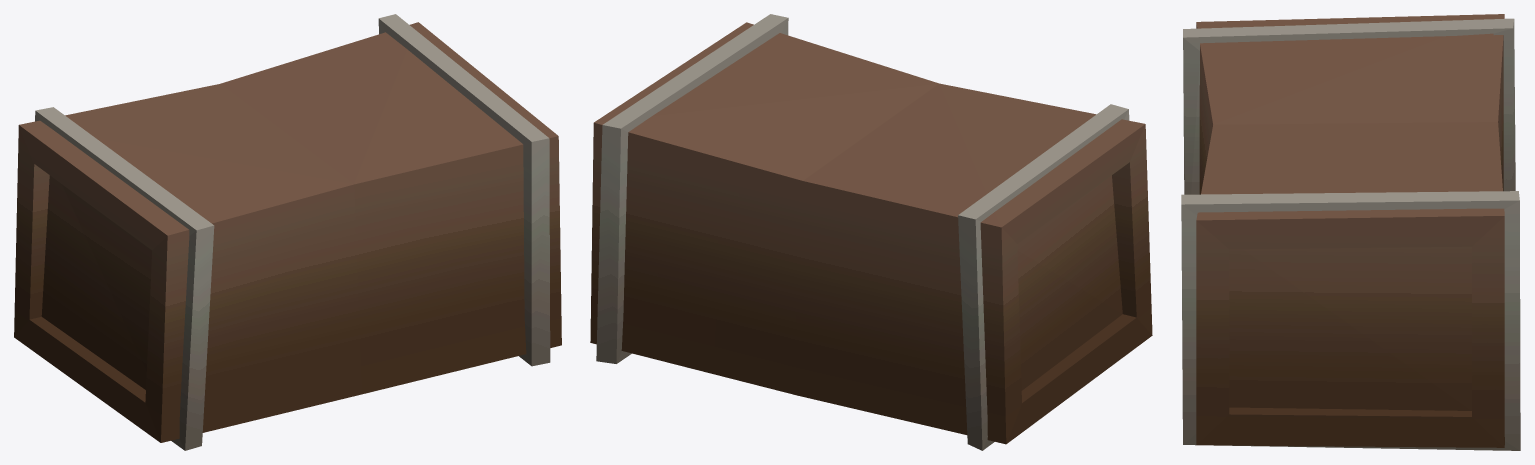
Rendered from crate1.glb.
The picture shows the model from 3 angles, left to right: view 1: azimuth 30°, elevation 25°; view 2: azimuth 150°, elevation 25°; view 3: azimuth 270°, elevation 25°; orthographic projection. The views are drawn at different scales.
Visible parts, largest first — view 1: crate1; view 2: crate1; view 3: crate1.
Part boxes in pixels (x1=…): crate1: x1=14, y1=14, x2=561, y2=450; crate1: x1=590, y1=14, x2=1152, y2=450; crate1: x1=1181, y1=14, x2=1520, y2=450.
Size of the model in its own units: 0.786 by 0.4294 by 0.5327.
1 material, 1 textured.
